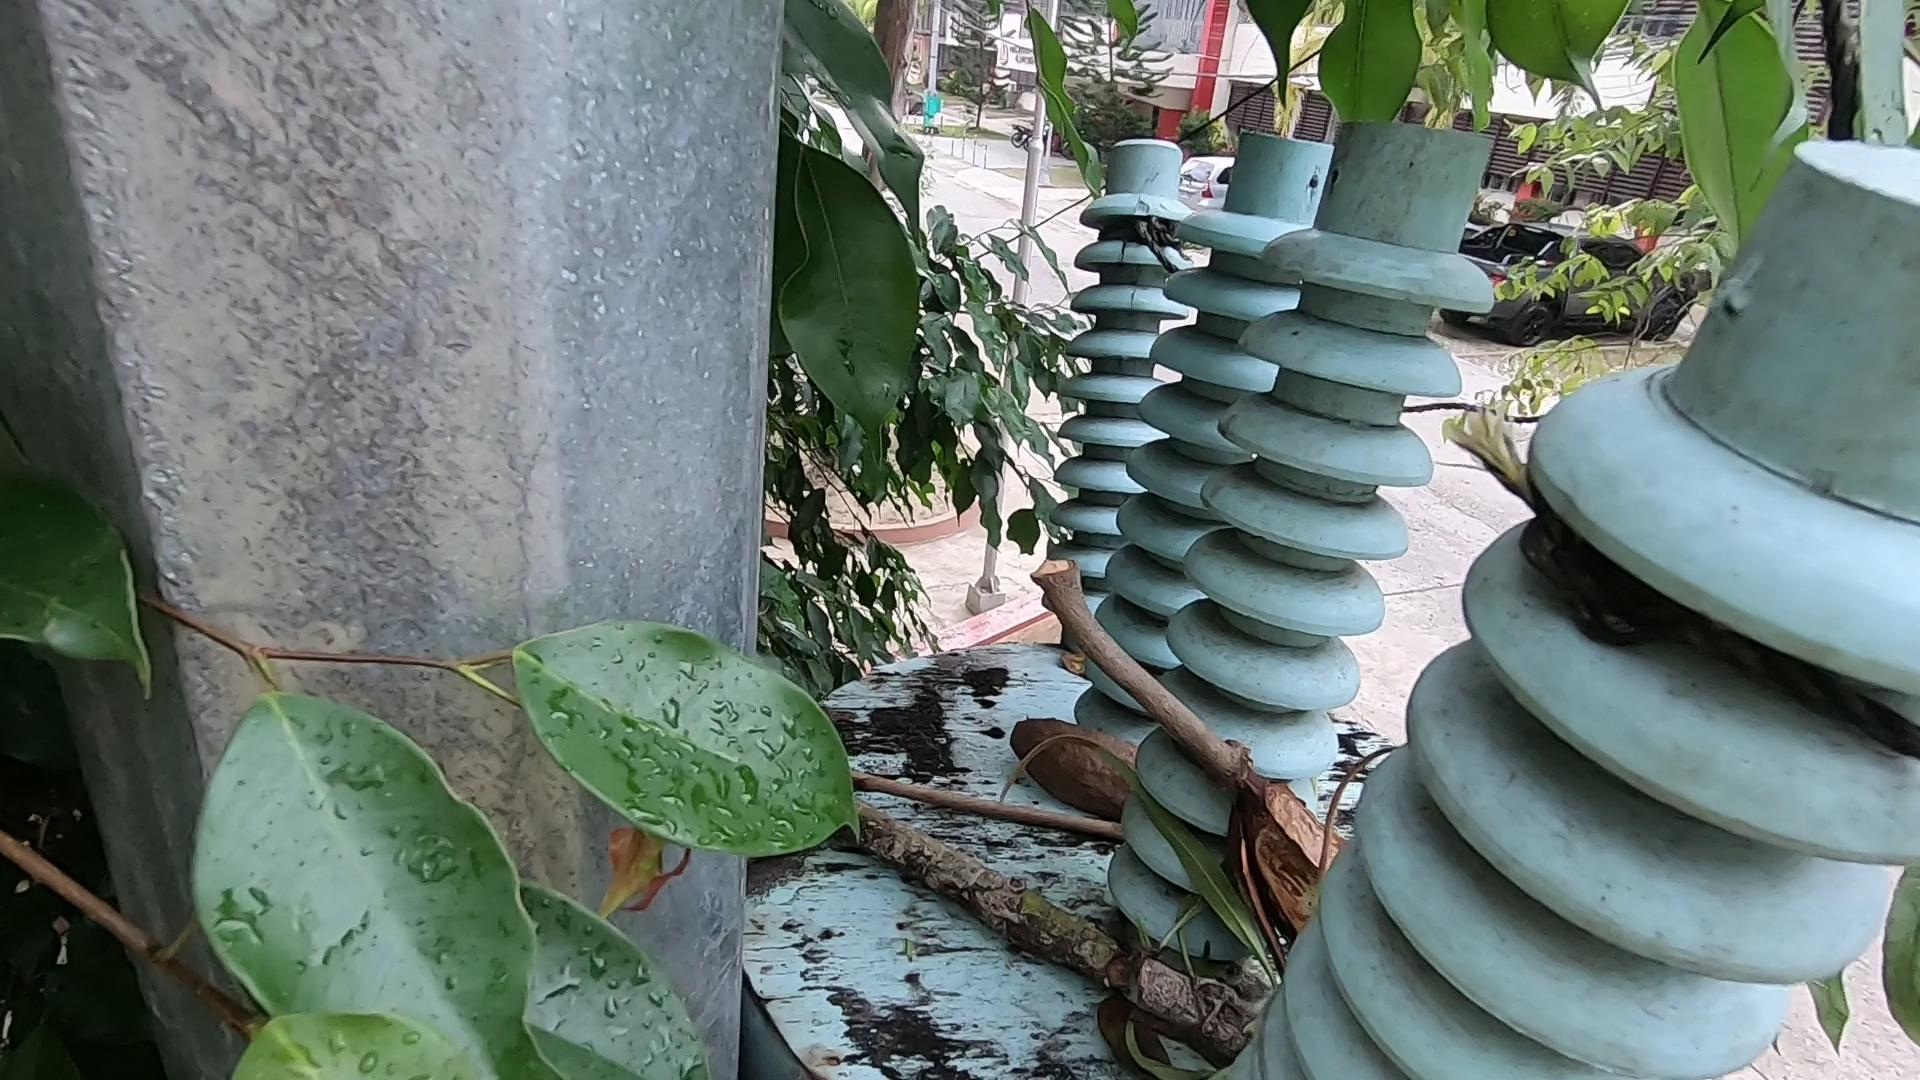branch with leaves: (843, 799, 1251, 1042)
leaf: (1079, 742, 1279, 1004), (1112, 990, 1178, 1080)
mahogany fruit: (1176, 753, 1356, 955), (997, 696, 1183, 866)
tree branch: (1043, 568, 1274, 789), (858, 761, 1135, 819)
